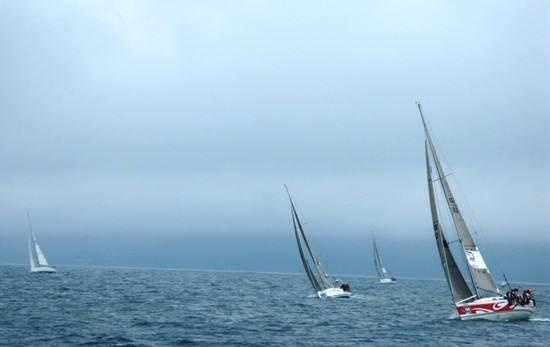fanchuan: (414, 93, 536, 321), (284, 178, 354, 302), (25, 210, 57, 277), (371, 234, 397, 287)
